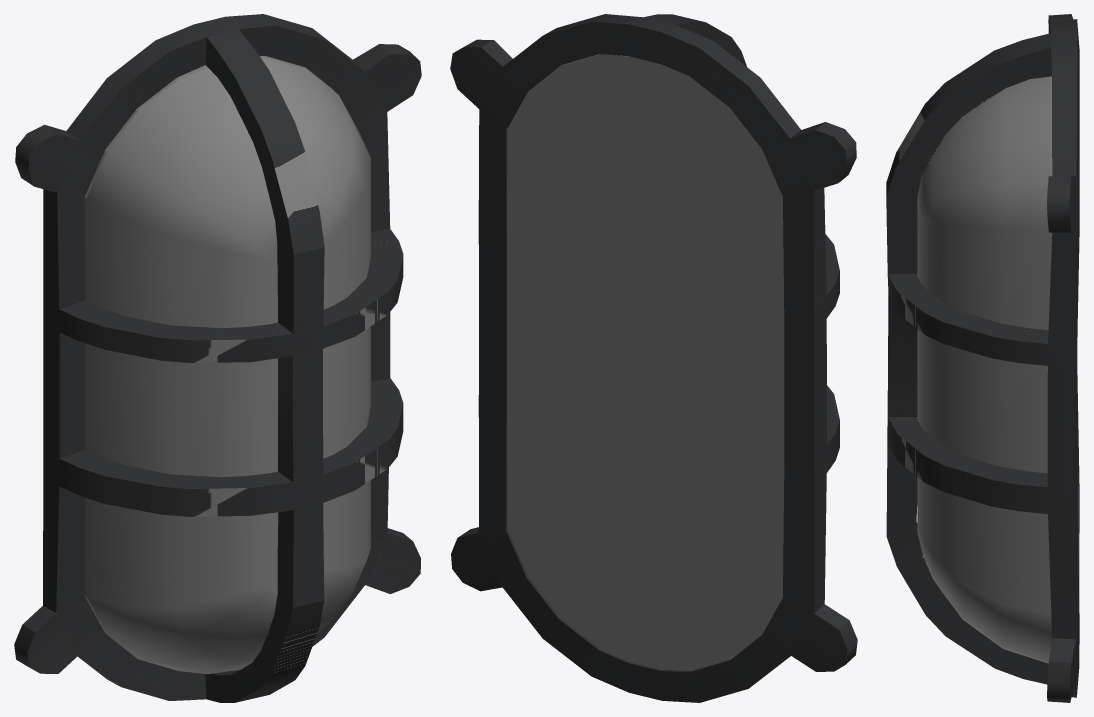
The model's file is BulkHead Lamp.fbx.
3 views of the same model, side by side, from view 1: azimuth 30°, elevation 25°; view 2: azimuth 150°, elevation 25°; view 3: azimuth 270°, elevation 25° (orthographic). The views are drawn at different scales.
Visible parts, largest first — view 1: Support, Glass; view 2: Glass, Support; view 3: Glass, Support.
Part boxes in pixels (x1,y1,x2,y2): Support: (14, 14, 421, 702); Glass: (84, 56, 370, 674); Glass: (507, 54, 784, 670); Support: (450, 14, 857, 702); Glass: (917, 76, 1052, 663); Support: (886, 14, 1079, 702).
Size of the model in its own units: 0.0323 by 0.0519 by 0.0142.
Materials: 3 (2 with a texture image).
